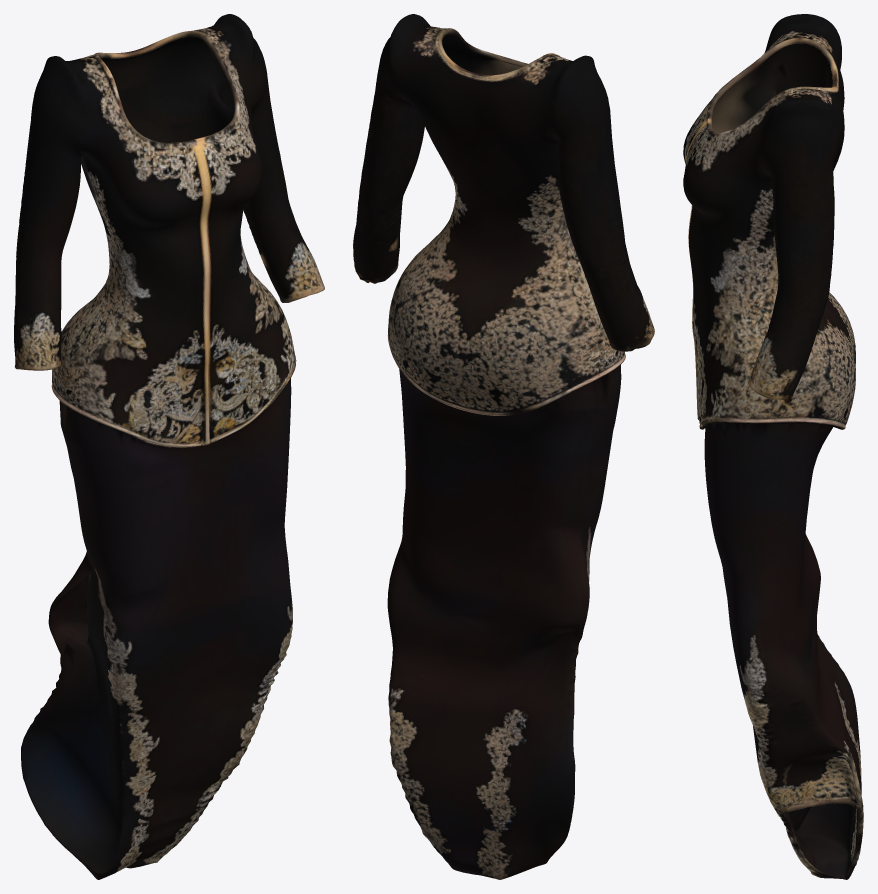
3 renders of one model, left to right at view 1: azimuth 30°, elevation 25°; view 2: azimuth 150°, elevation 25°; view 3: azimuth 270°, elevation 25°, orthographic. The views are drawn at different scales.
Parts seen in each view (by area): view 1: fabric_karakou; view 2: fabric_karakou; view 3: fabric_karakou.
Part boxes in pixels (x1,y1,x2,y2): fabric_karakou: (14, 14, 324, 879); fabric_karakou: (353, 14, 654, 879); fabric_karakou: (683, 14, 863, 879).
Size of the model in its own units: 0.4413 by 1.17 by 0.2333.
1 material, 1 textured.
